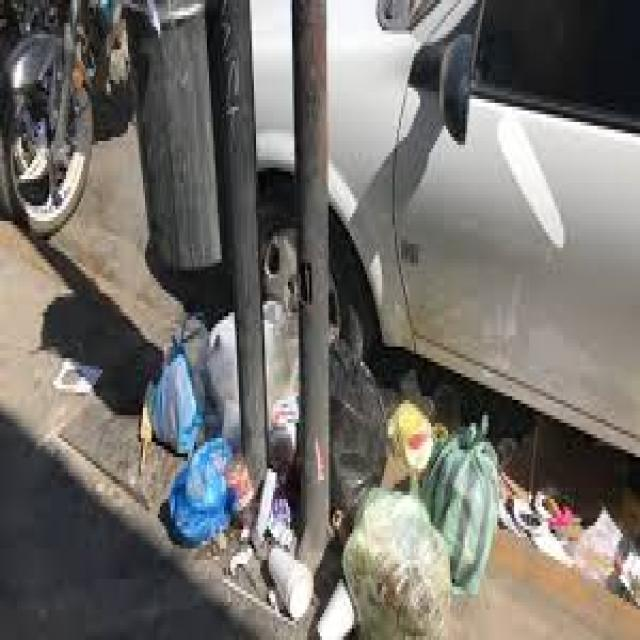garbage: (125, 287, 523, 640)
